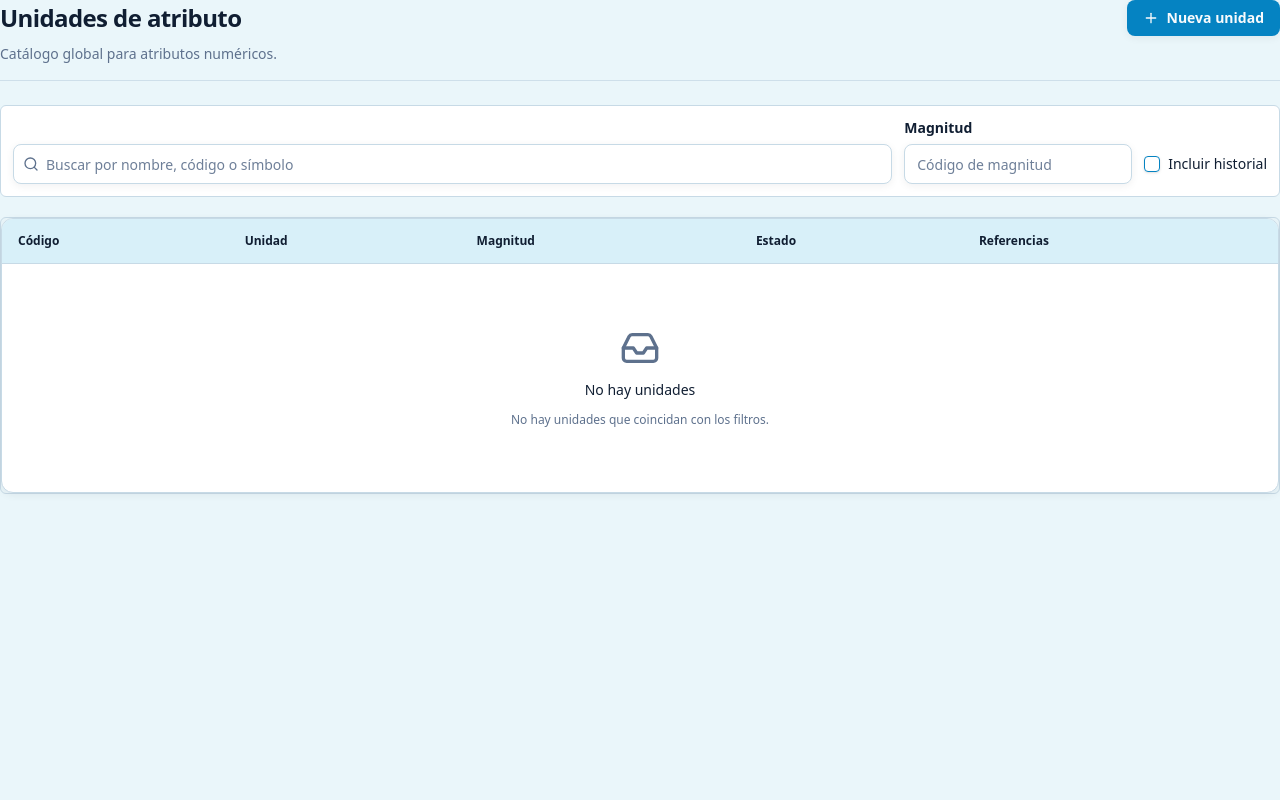
Test case: UnidadesPage › preserva el formulario y explica un código duplicado del backend
This screenshot has width=1280, height=800.
Click the button "Nueva unidad" at point(1203, 18), box [1126,0,1279,36]
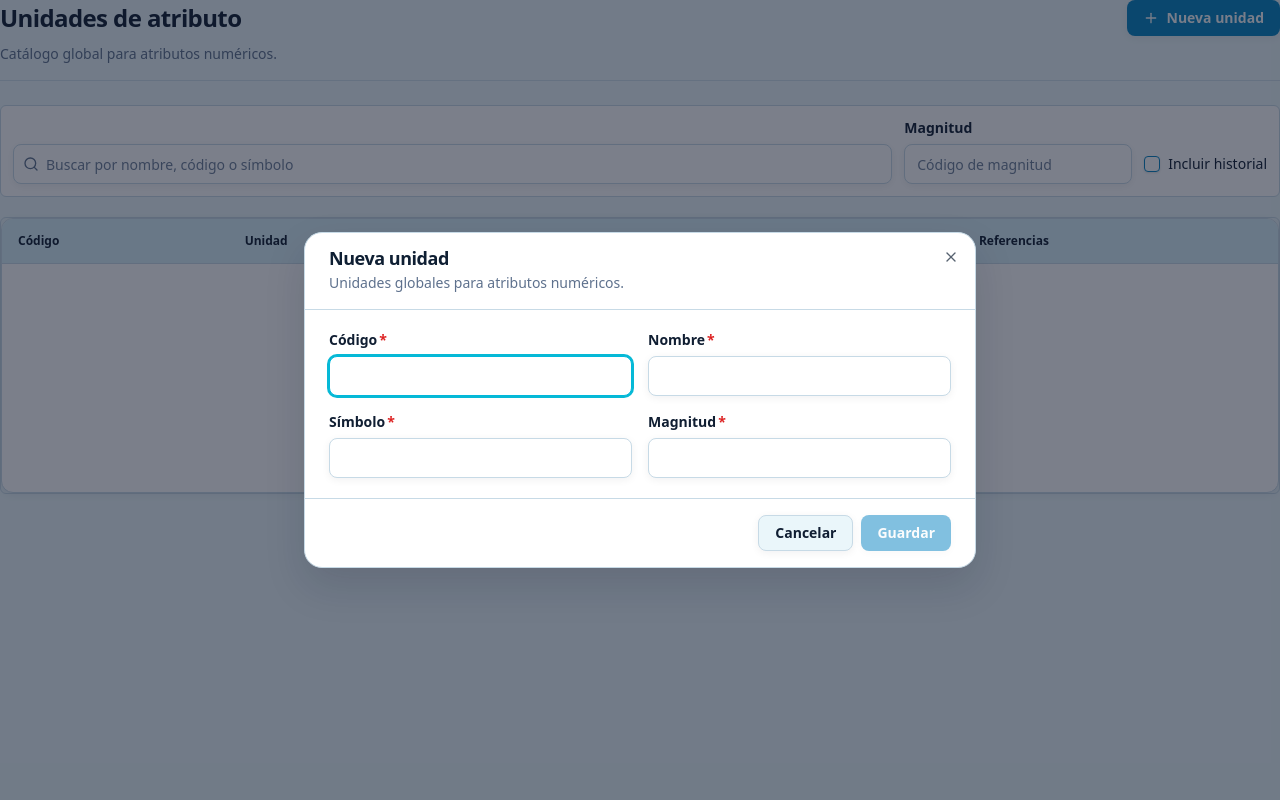
Type "MEGABIT" into the field labelled "Código*" at point(480, 376), box [329,356,632,396]
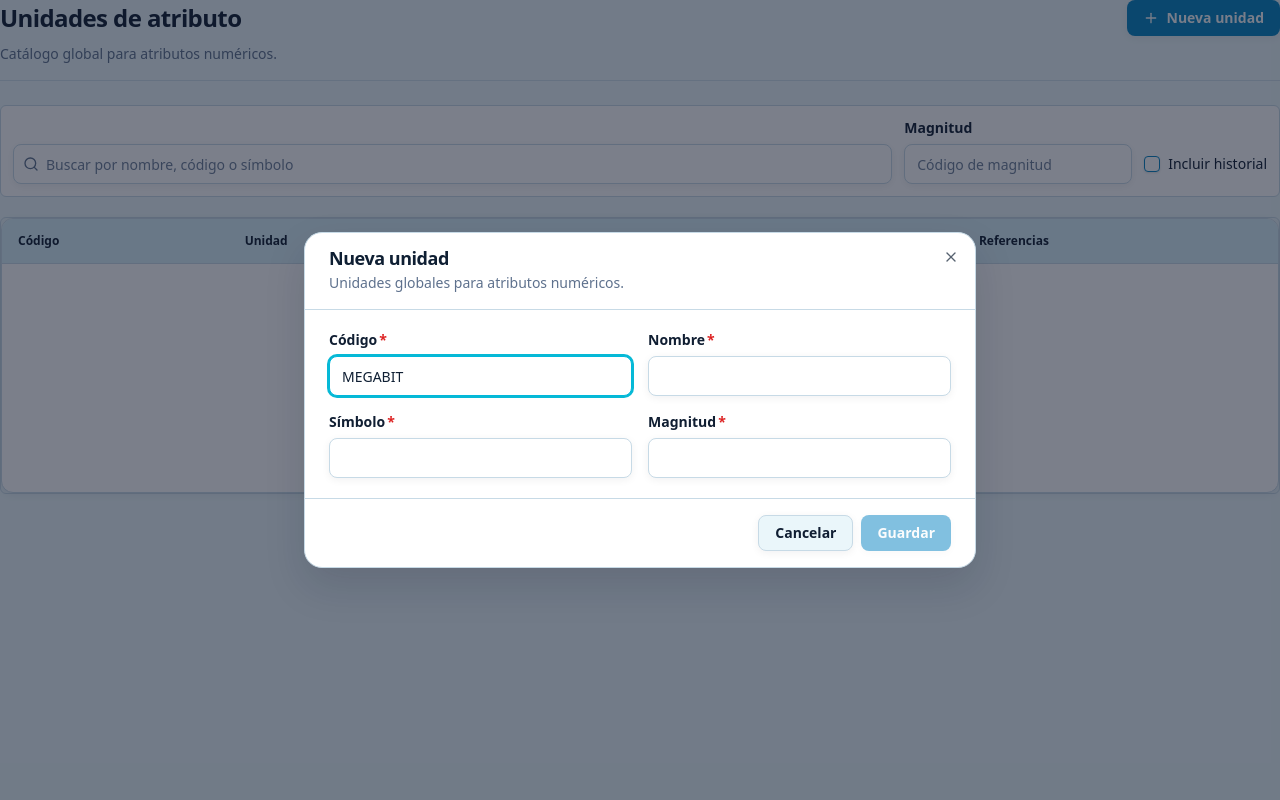
Type "Megabit" into the field labelled "Nombre*" at point(800, 376), box [648,356,951,396]
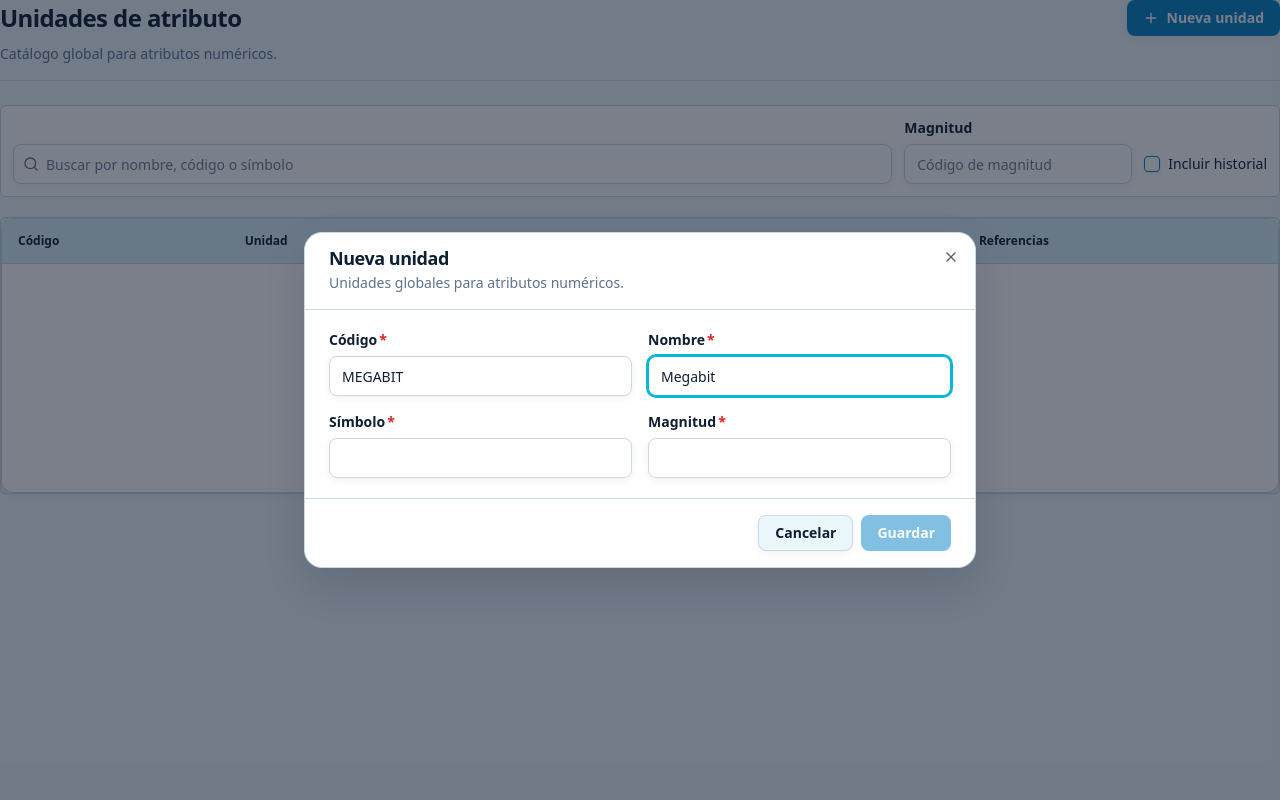
Type "Mb" into the field labelled "Símbolo*" at point(480, 458), box [329,438,632,478]
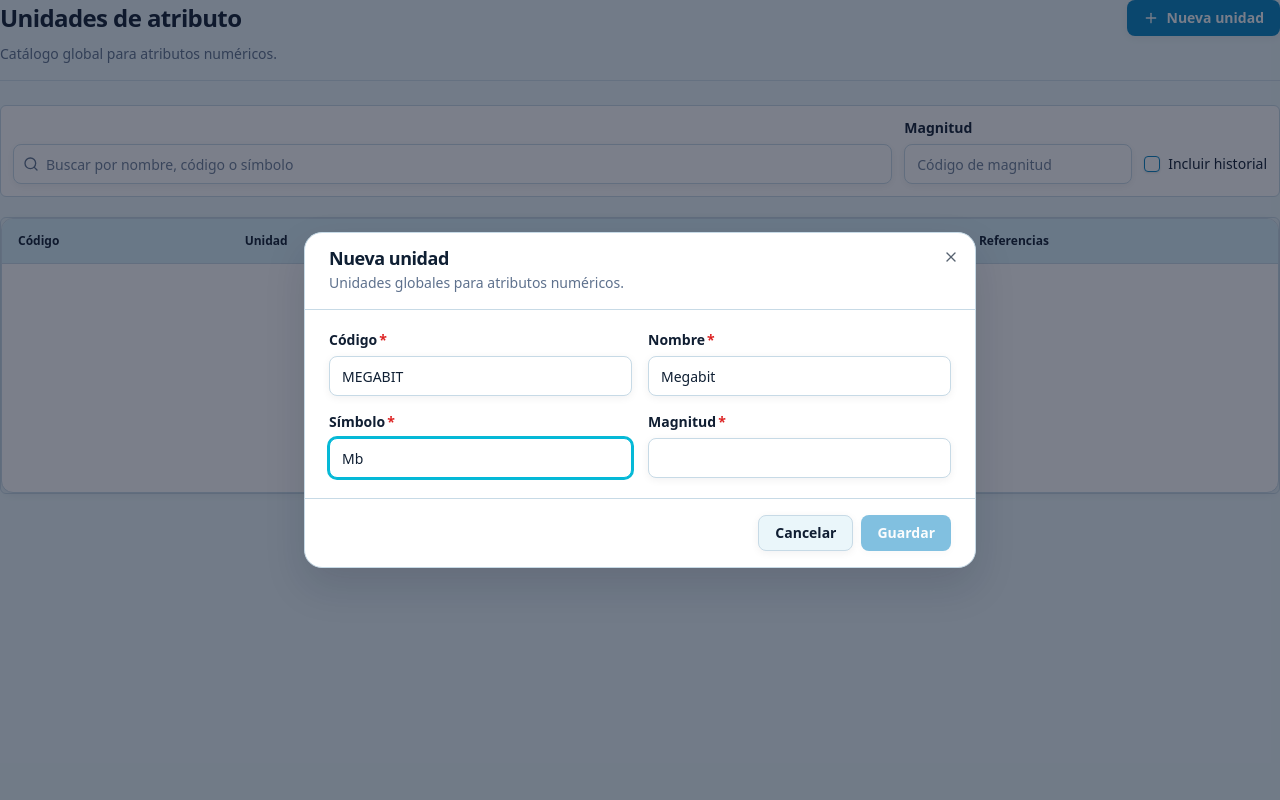
Type "DATA_STORAGE" into the field named "Magnitud de la unidad" at point(800, 458), box [648,438,951,478]
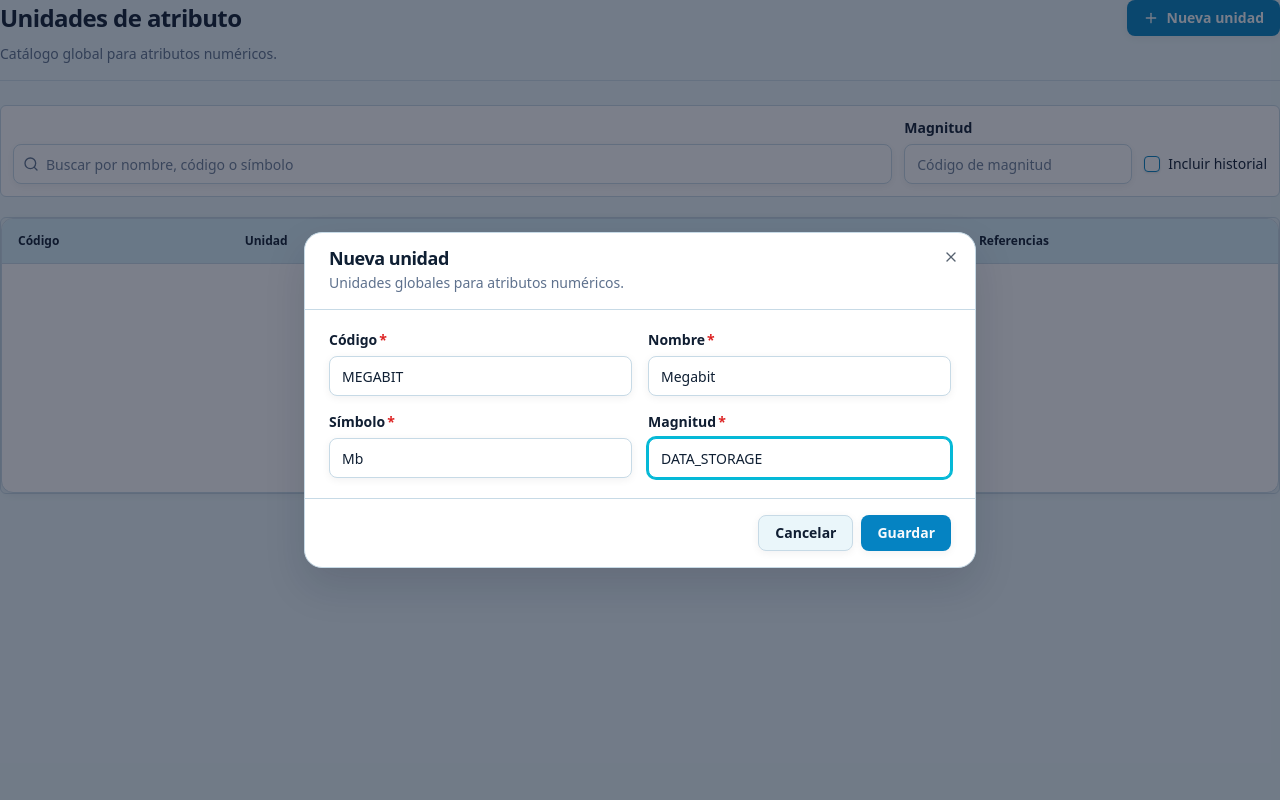
Click the button "Guardar" at point(906, 533), box [862,515,951,551]
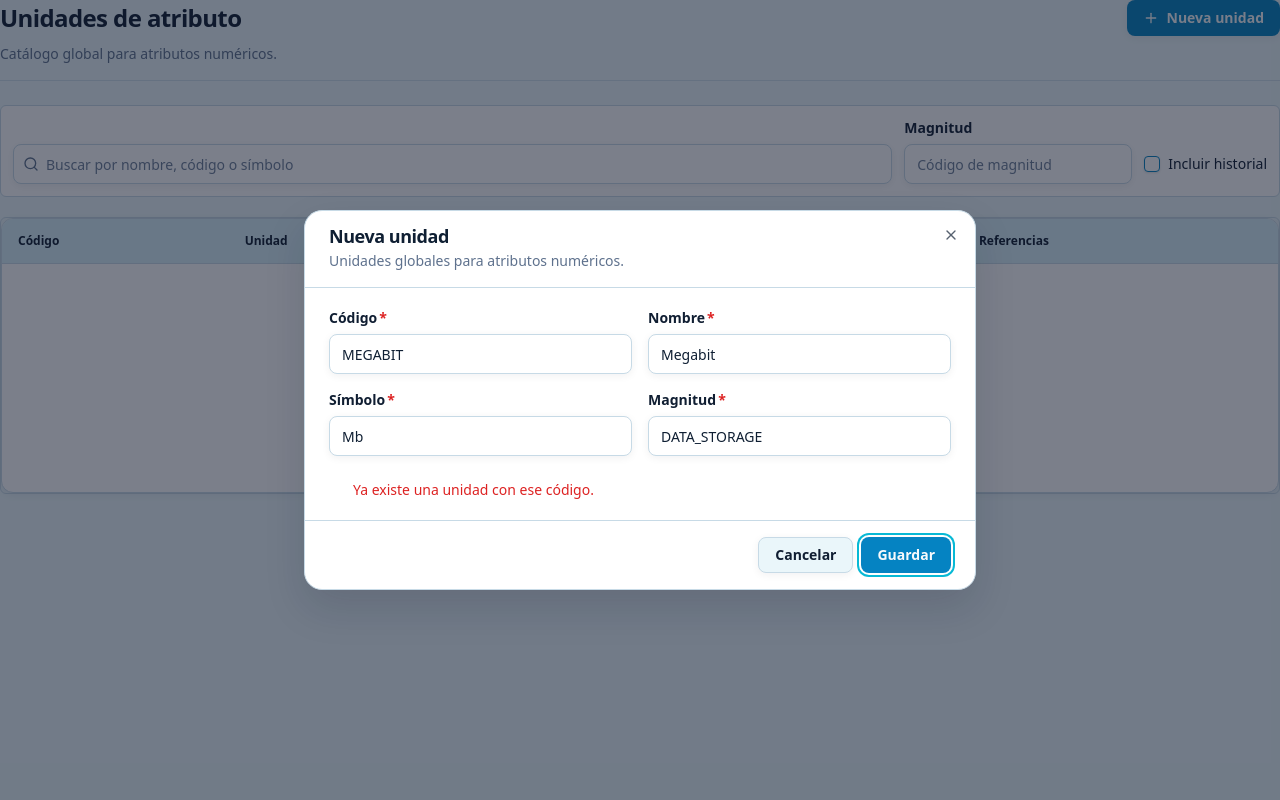
Now the message reads "Ya existe una unidad con ese código.", box [353,480,594,499]
